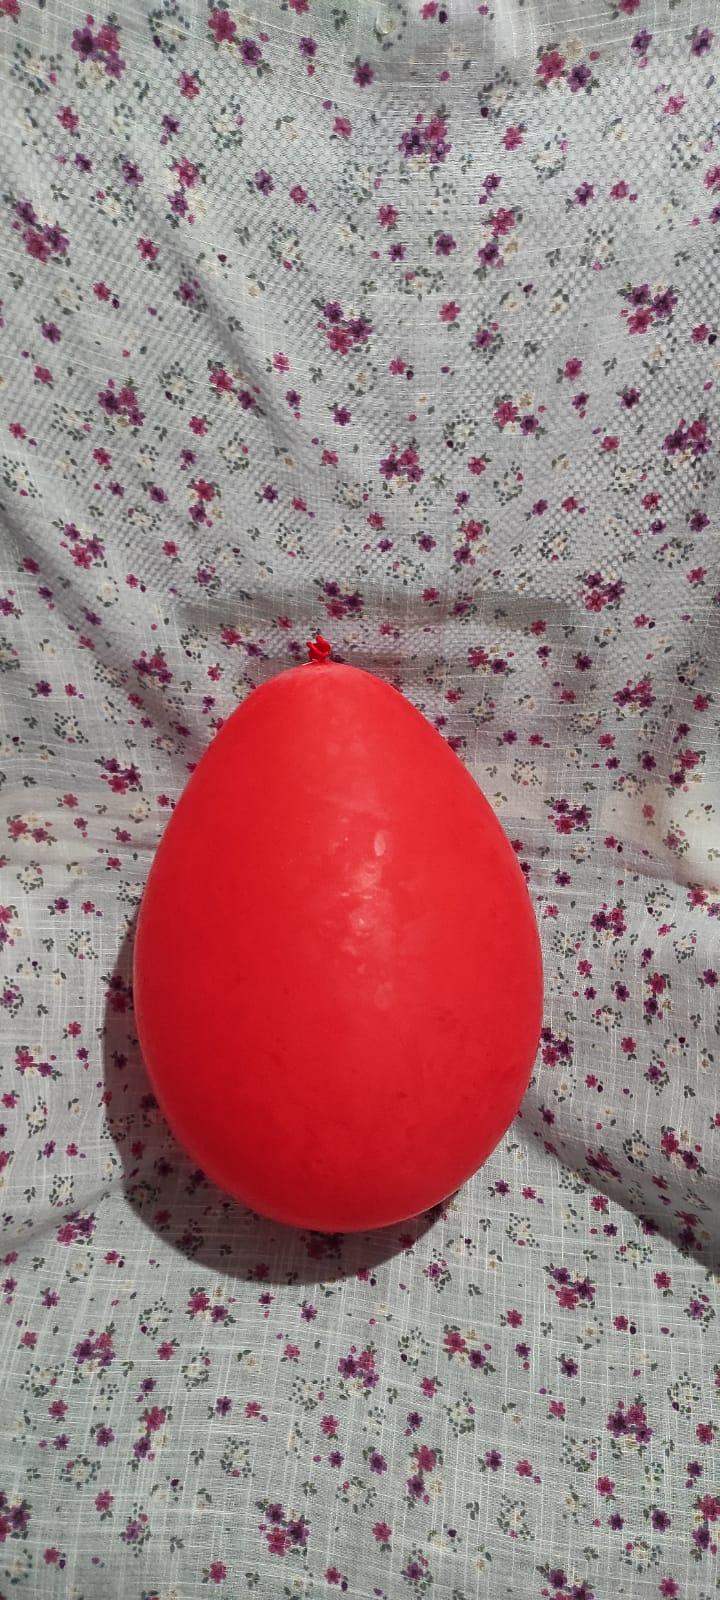red: (124, 624, 554, 1237)
